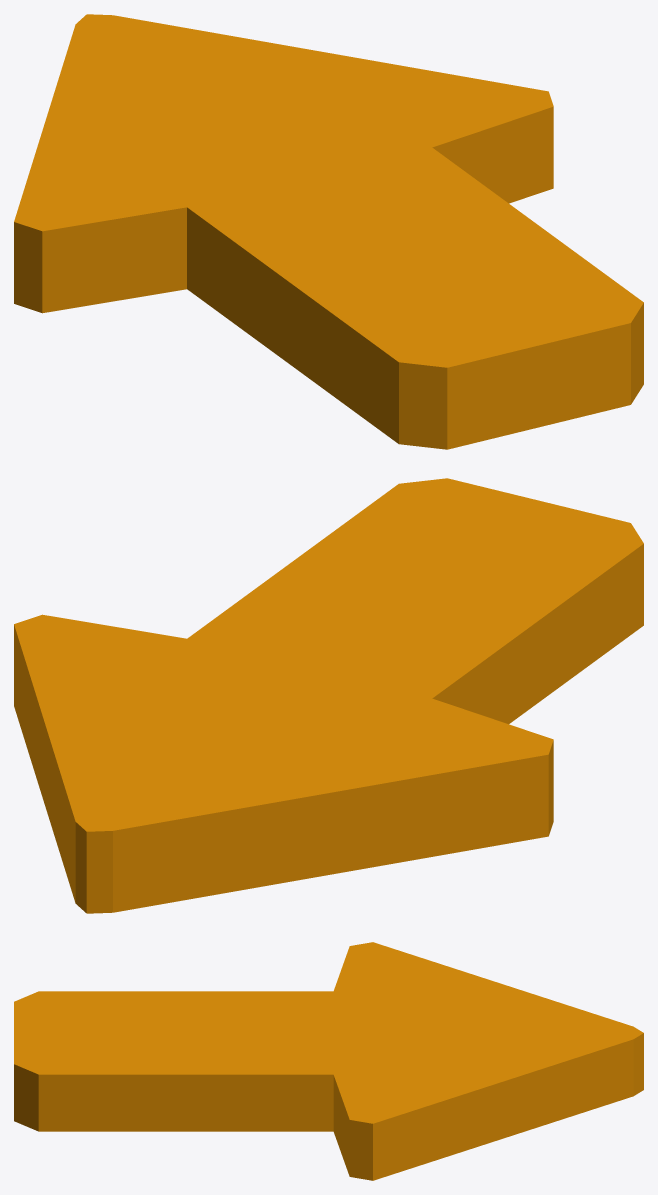
Rendered from construct_arrow.glb.
The picture shows the model from 3 angles, top to bottom: view 1: azimuth 30°, elevation 25°; view 2: azimuth 150°, elevation 25°; view 3: azimuth 270°, elevation 25°; orthographic projection. The views are drawn at different scales.
Parts seen in each view (by area): view 1: 平面; view 2: 平面; view 3: 平面.
Part boxes in pixels (box(x1,y1,x2,y2)): 平面: box(14, 14, 643, 449); 平面: box(14, 478, 643, 913); 平面: box(14, 942, 643, 1180).
Size of the model in its own units: 3.42 by 0.5 by 5.
